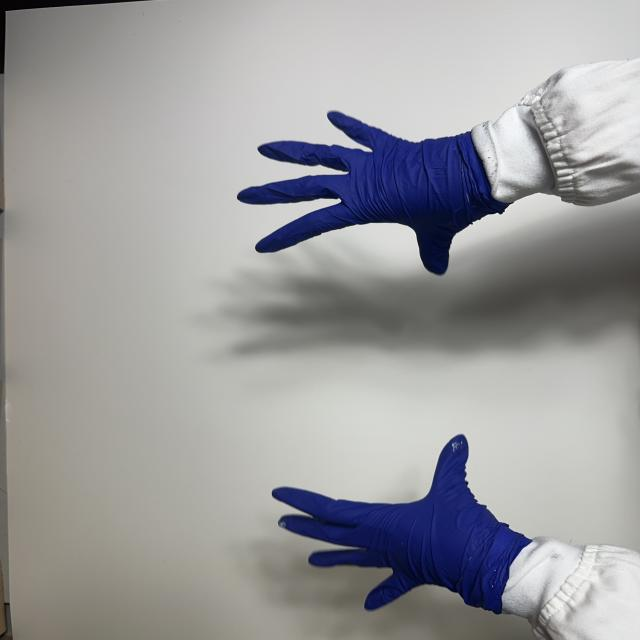gloves_contaminated: (276, 436, 528, 610), (238, 112, 507, 274)
